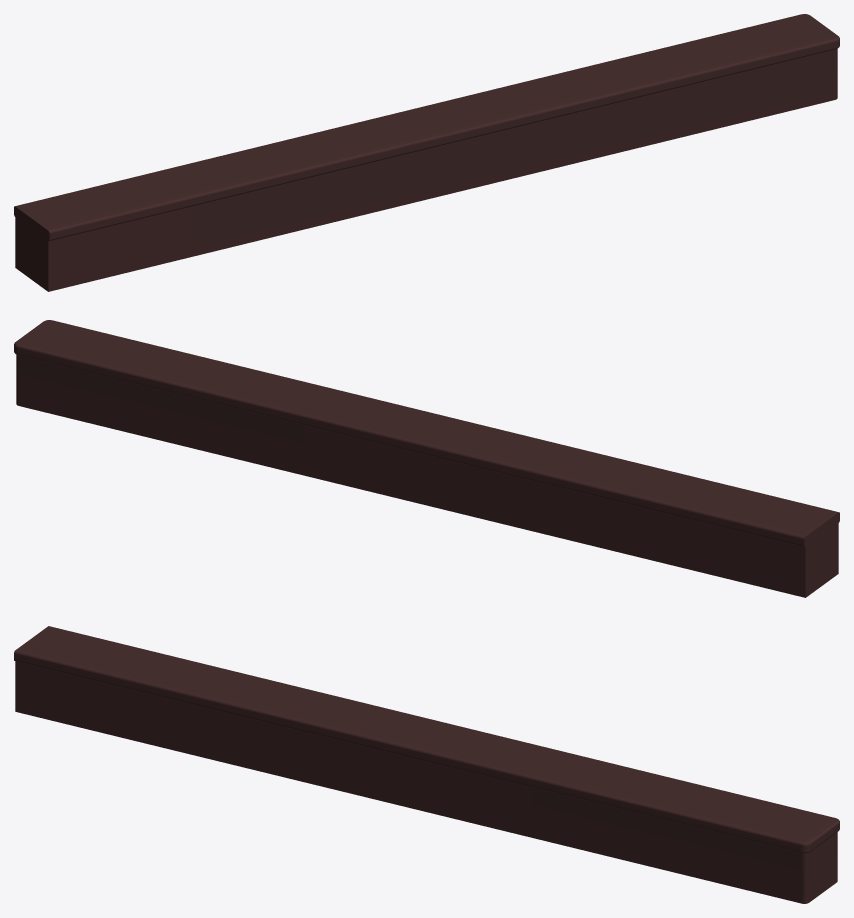
The model's file is KitchenBar_3.fbx.
3 views of the same model, one above another, from view 1: azimuth 30°, elevation 25°; view 2: azimuth 150°, elevation 25°; view 3: azimuth 330°, elevation 25° (orthographic).
Visible parts, largest first — view 1: KitchenBar_3; view 2: KitchenBar_3; view 3: KitchenBar_3.
Part boxes in pixels (bbox=[...]): KitchenBar_3: bbox=[14, 14, 839, 291]; KitchenBar_3: bbox=[14, 320, 839, 597]; KitchenBar_3: bbox=[14, 626, 839, 903].
Bounding box in the file's own units: 271 × 20 × 21.
